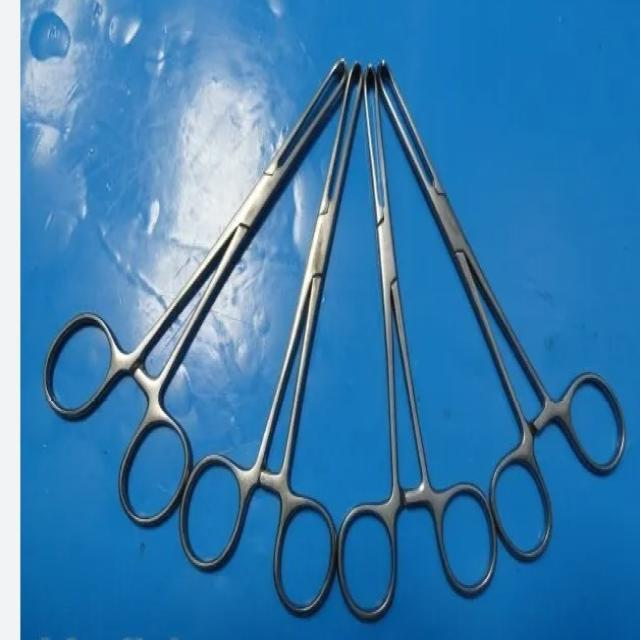Allis Forceps: (41, 31, 352, 532), (376, 19, 630, 568), (176, 58, 367, 620), (336, 58, 498, 624)
